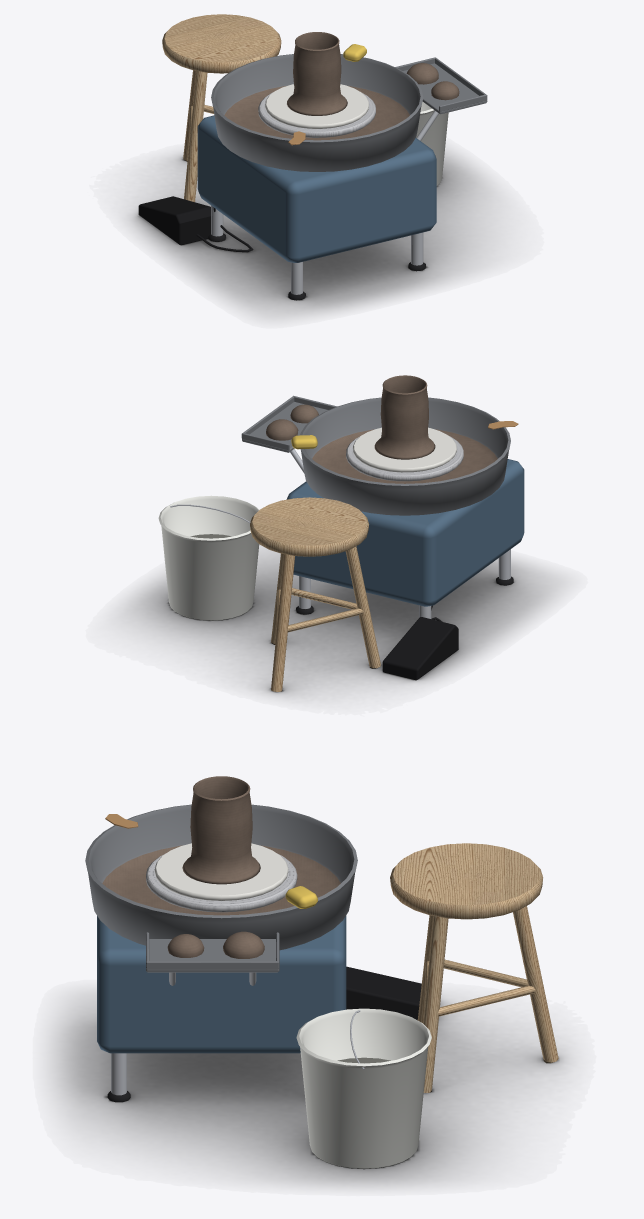
The model's file is pottery_wheel.glb.
3 views of the same model, one above another, from view 1: azimuth 30°, elevation 25°; view 2: azimuth 150°, elevation 25°; view 3: azimuth 270°, elevation 25° (orthographic). The views are drawn at different scales.
Visible parts, largest first — view 1: pottery_wheel_LOD0, pottery_wheel_Shadow; view 2: pottery_wheel_LOD0, pottery_wheel_Shadow; view 3: pottery_wheel_LOD0, pottery_wheel_Shadow.
Boxes of the visible parts, bbox=[...] form: pottery_wheel_LOD0: bbox=[138, 14, 487, 300]; pottery_wheel_Shadow: bbox=[130, 152, 487, 314]; pottery_wheel_LOD0: bbox=[158, 375, 524, 691]; pottery_wheel_Shadow: bbox=[127, 549, 555, 695]; pottery_wheel_LOD0: bbox=[85, 776, 558, 1169]; pottery_wheel_Shadow: bbox=[56, 995, 566, 1185].
Size of what is drawn, in the model's own units: 1.25 by 0.6776 by 1.38.
Materials: 4 (4 with a texture image).
